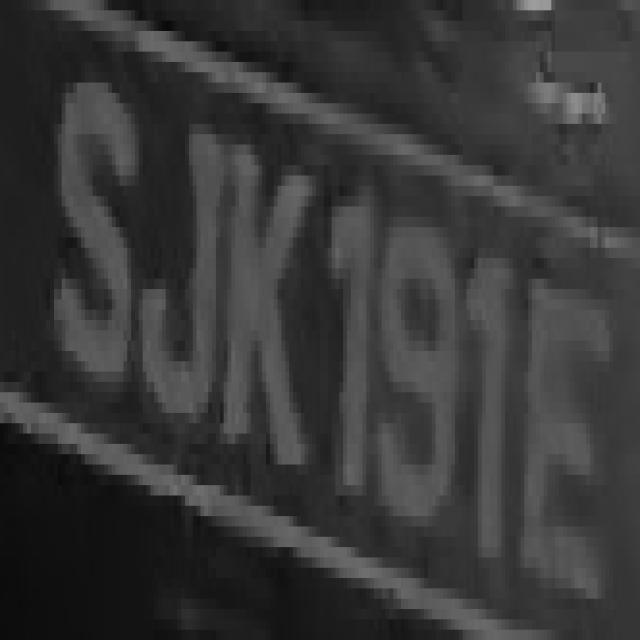1: (312, 135, 382, 558), (463, 186, 524, 599)
9: (378, 114, 459, 598)
E: (524, 206, 624, 640)
J: (146, 62, 220, 495)
K: (223, 62, 304, 547)
S: (38, 11, 138, 433)
